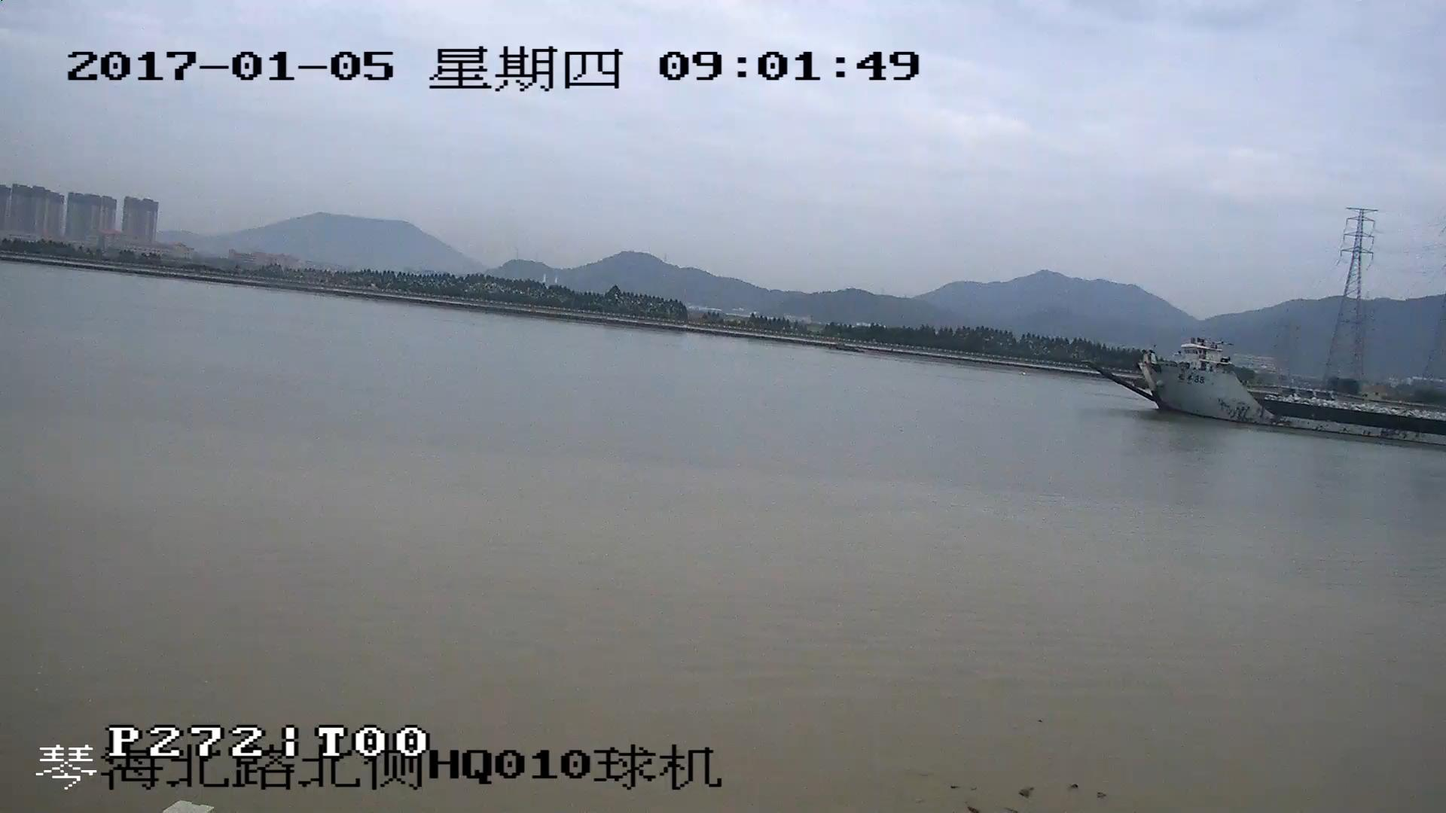bulk cargo carrier: (1090, 339, 1445, 444)
